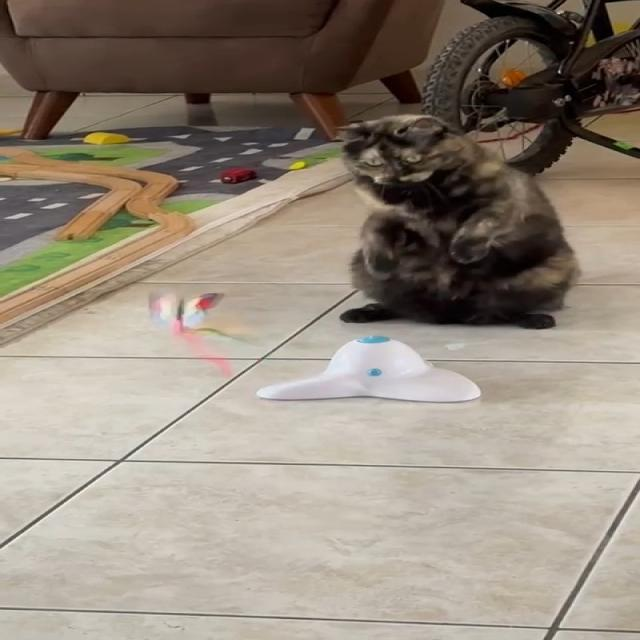authorized: (333, 113, 580, 329)
